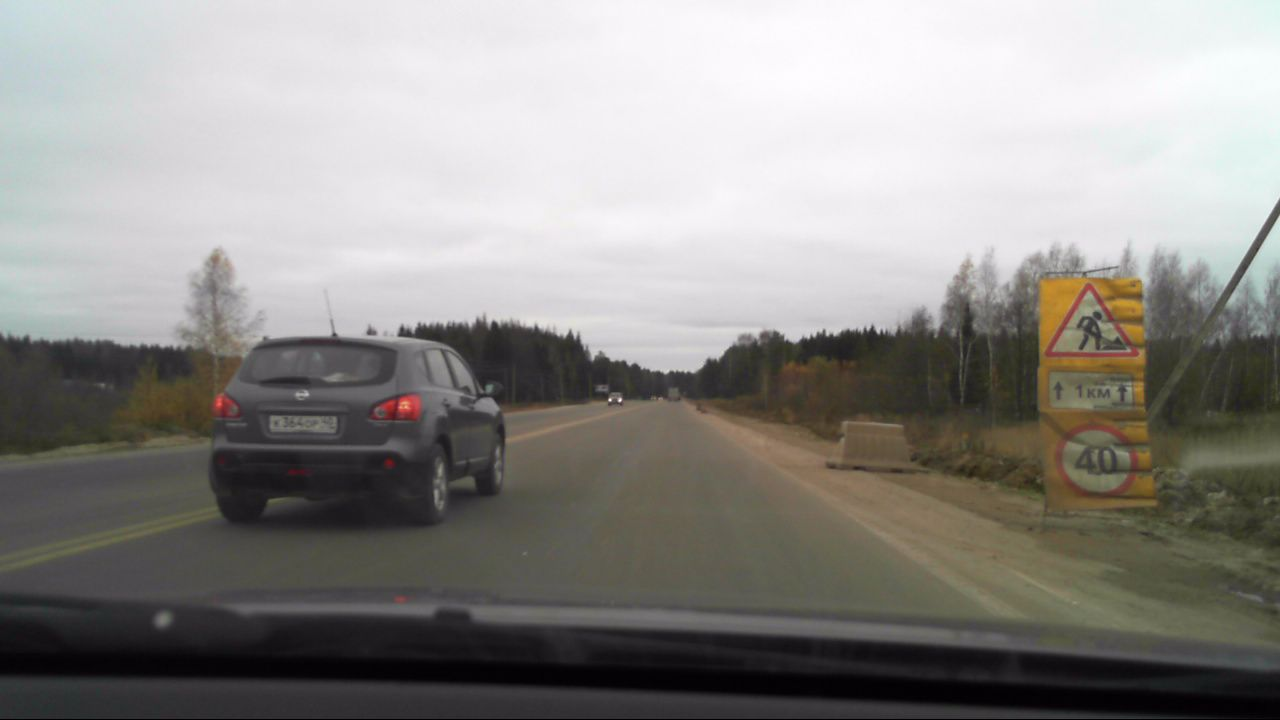speed_warning_40: (1054, 422, 1137, 501)
